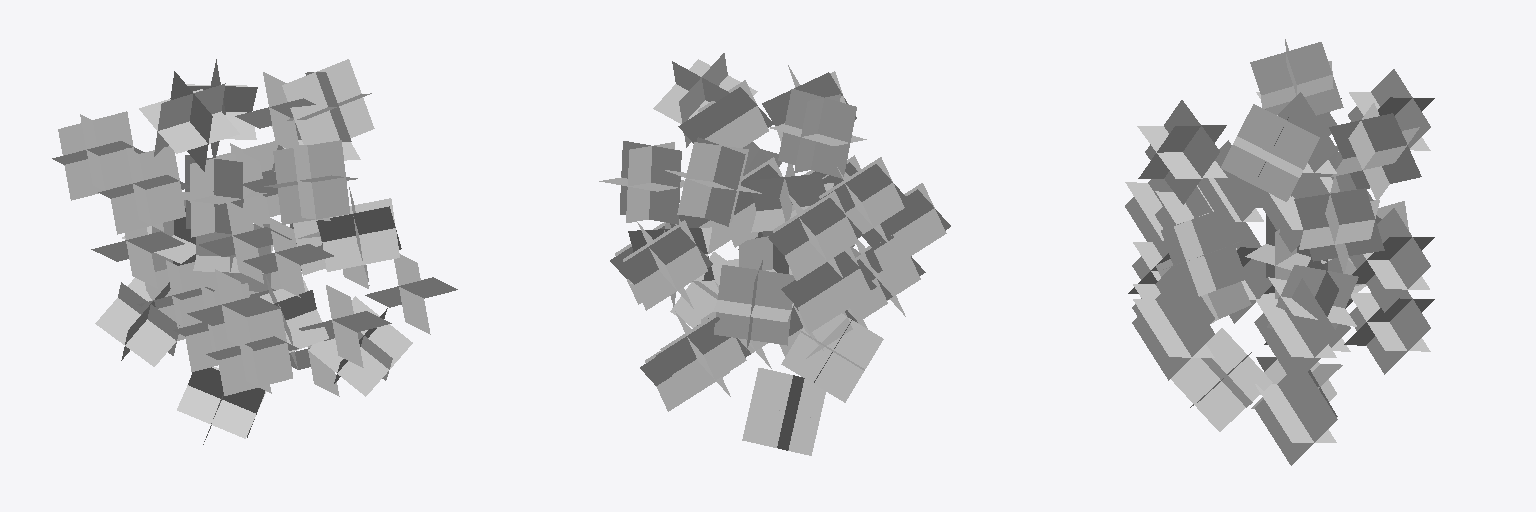
File: sparks2.obj
3 views of the same model, side by side, from view 1: azimuth 30°, elevation 25°; view 2: azimuth 150°, elevation 25°; view 3: azimuth 270°, elevation 25° (orthographic).
Parts seen in each view (by area): view 1: Sparks1; view 2: Sparks1; view 3: Sparks1.
Boxes of the visible parts, x1,y1,x2,y2 form: Sparks1: [52, 59, 457, 444]; Sparks1: [599, 53, 950, 455]; Sparks1: [1125, 39, 1434, 465].
Bounding box in the file's own units: 3.05 × 3.65 × 2.78.